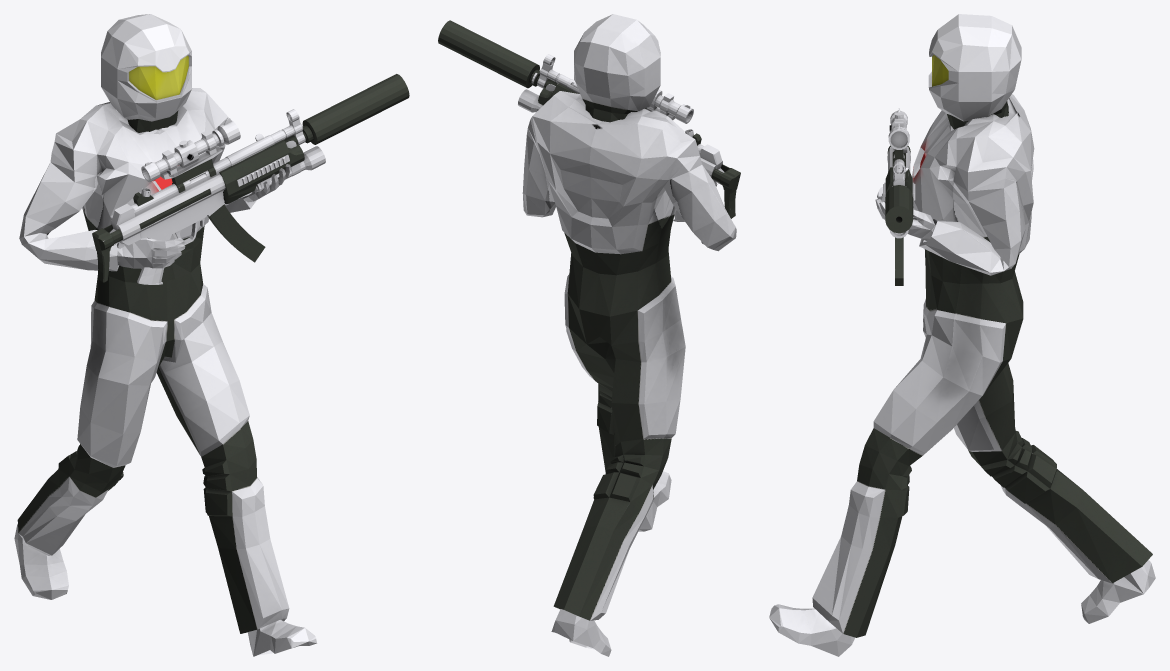
File: walk15.obj
3 renders of one model, left to right at view 1: azimuth 30°, elevation 25°; view 2: azimuth 150°, elevation 25°; view 3: azimuth 270°, elevation 25°, orthographic. The views are drawn at different scales.
Parts seen in each view (by area): view 1: Male001Skin_001, Object001; view 2: Male001Skin_001, Object001; view 3: Male001Skin_001, Object001.
Part boxes in pixels (x1,y1,x2,y2): Male001Skin_001: [14, 14, 316, 656]; Object001: [92, 74, 409, 284]; Male001Skin_001: [522, 14, 736, 656]; Object001: [438, 20, 740, 221]; Male001Skin_001: [769, 14, 1155, 656]; Object001: [883, 108, 915, 285].
Bounding box in the file's own units: 1111 × 1879 × 1068.
1 material, 1 textured.
